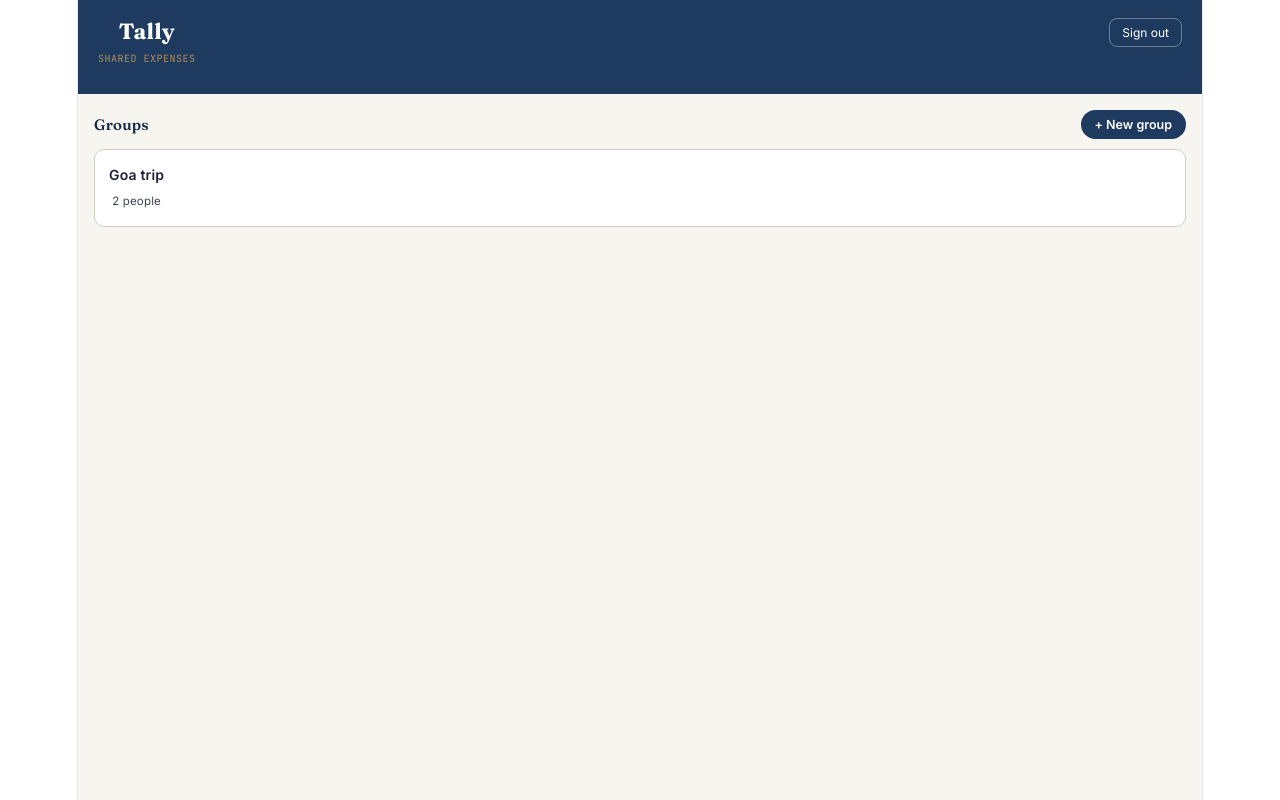
Group detail › opens the add-expense sheet with member chips populated
Click the text "Goa trip" at (137, 175), box 109,162 -> 164,188
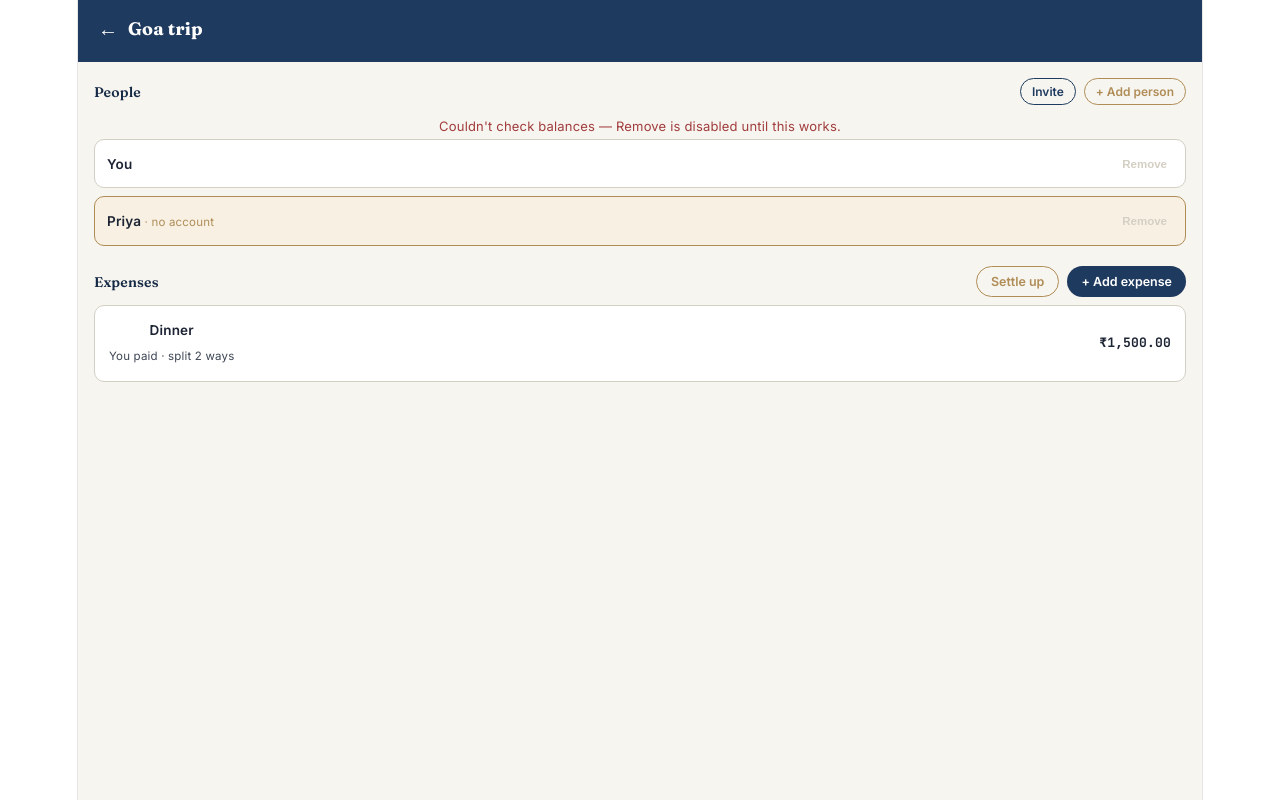
Expected: the button "+ Add expense" is shown
Click the button "+ Add expense" at (1127, 282), box 1067,266 -> 1186,297
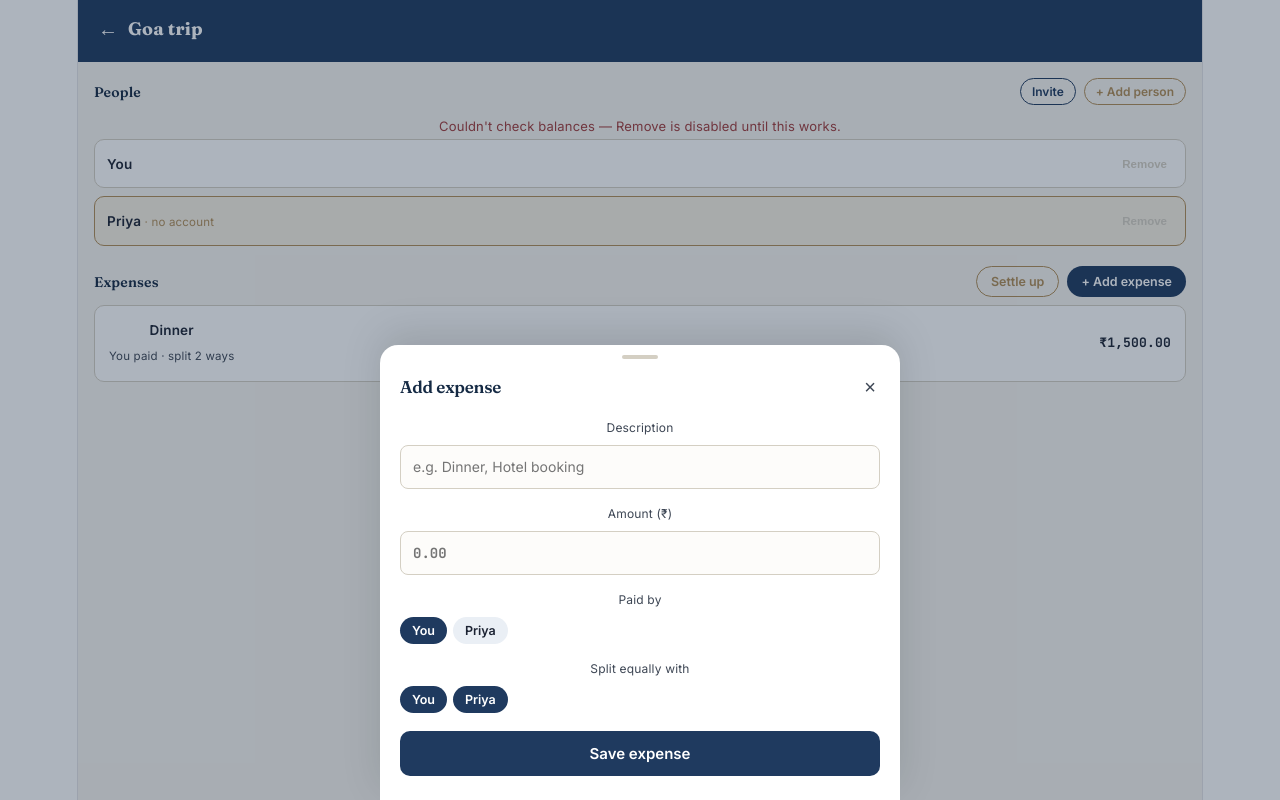
Expected: the field with placeholder "e.g. Dinner, Hotel booking" is shown, 400,445 -> 880,489
